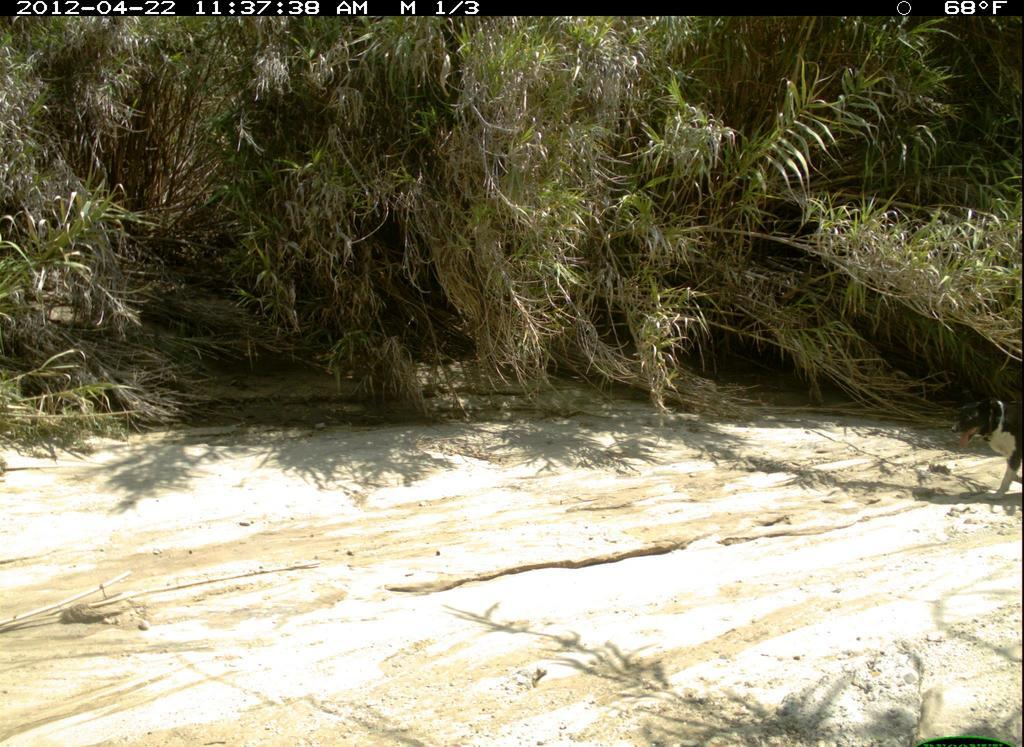dog: (946, 388, 1023, 509)
